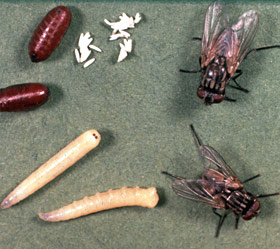fly: (158, 120, 275, 243), (180, 1, 275, 109)
